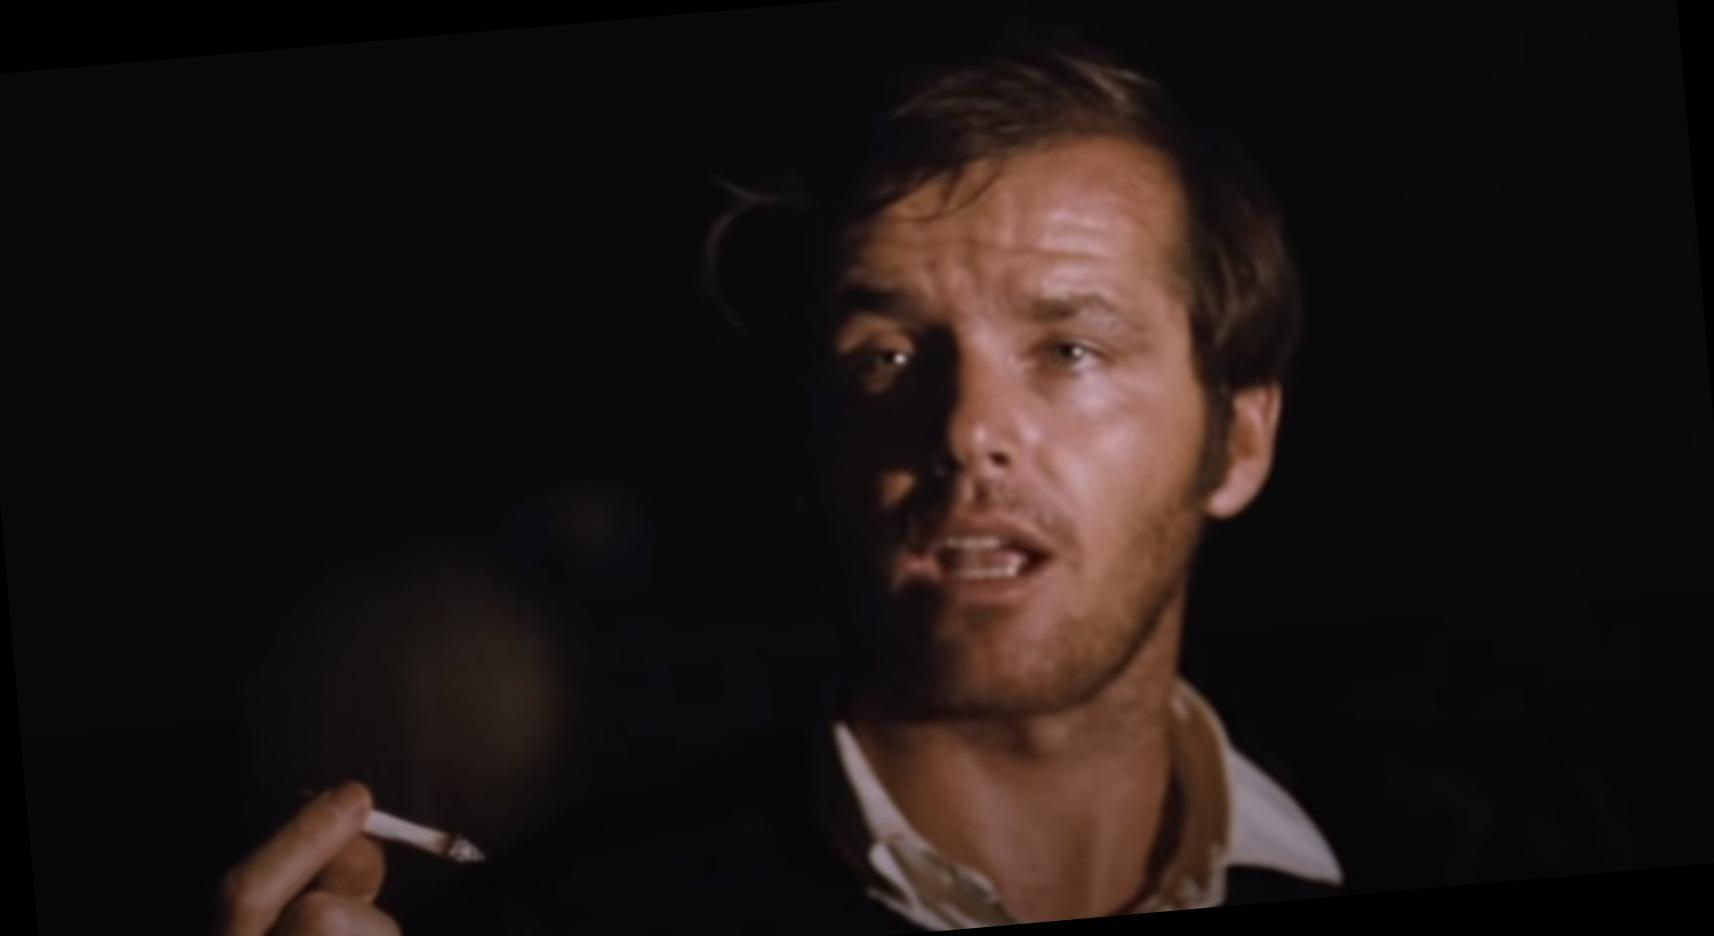Drunk: (821, 186, 1199, 700)
